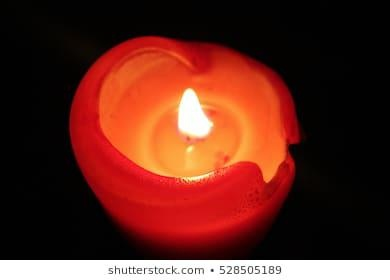fire: (175, 84, 214, 138)
